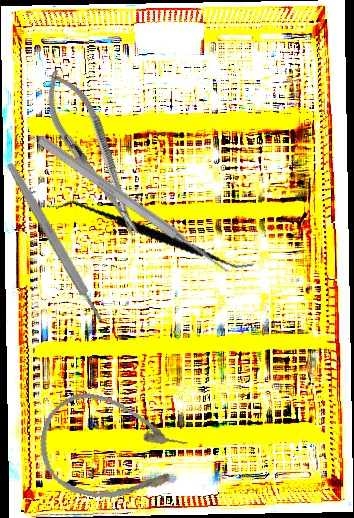Cannula: (30, 384, 195, 516)
Needle Holder: (32, 62, 154, 246)
Pusher: (35, 133, 232, 278)
Scalpel Handle: (4, 160, 106, 325)
Spatula Surgical: (55, 166, 255, 306)
